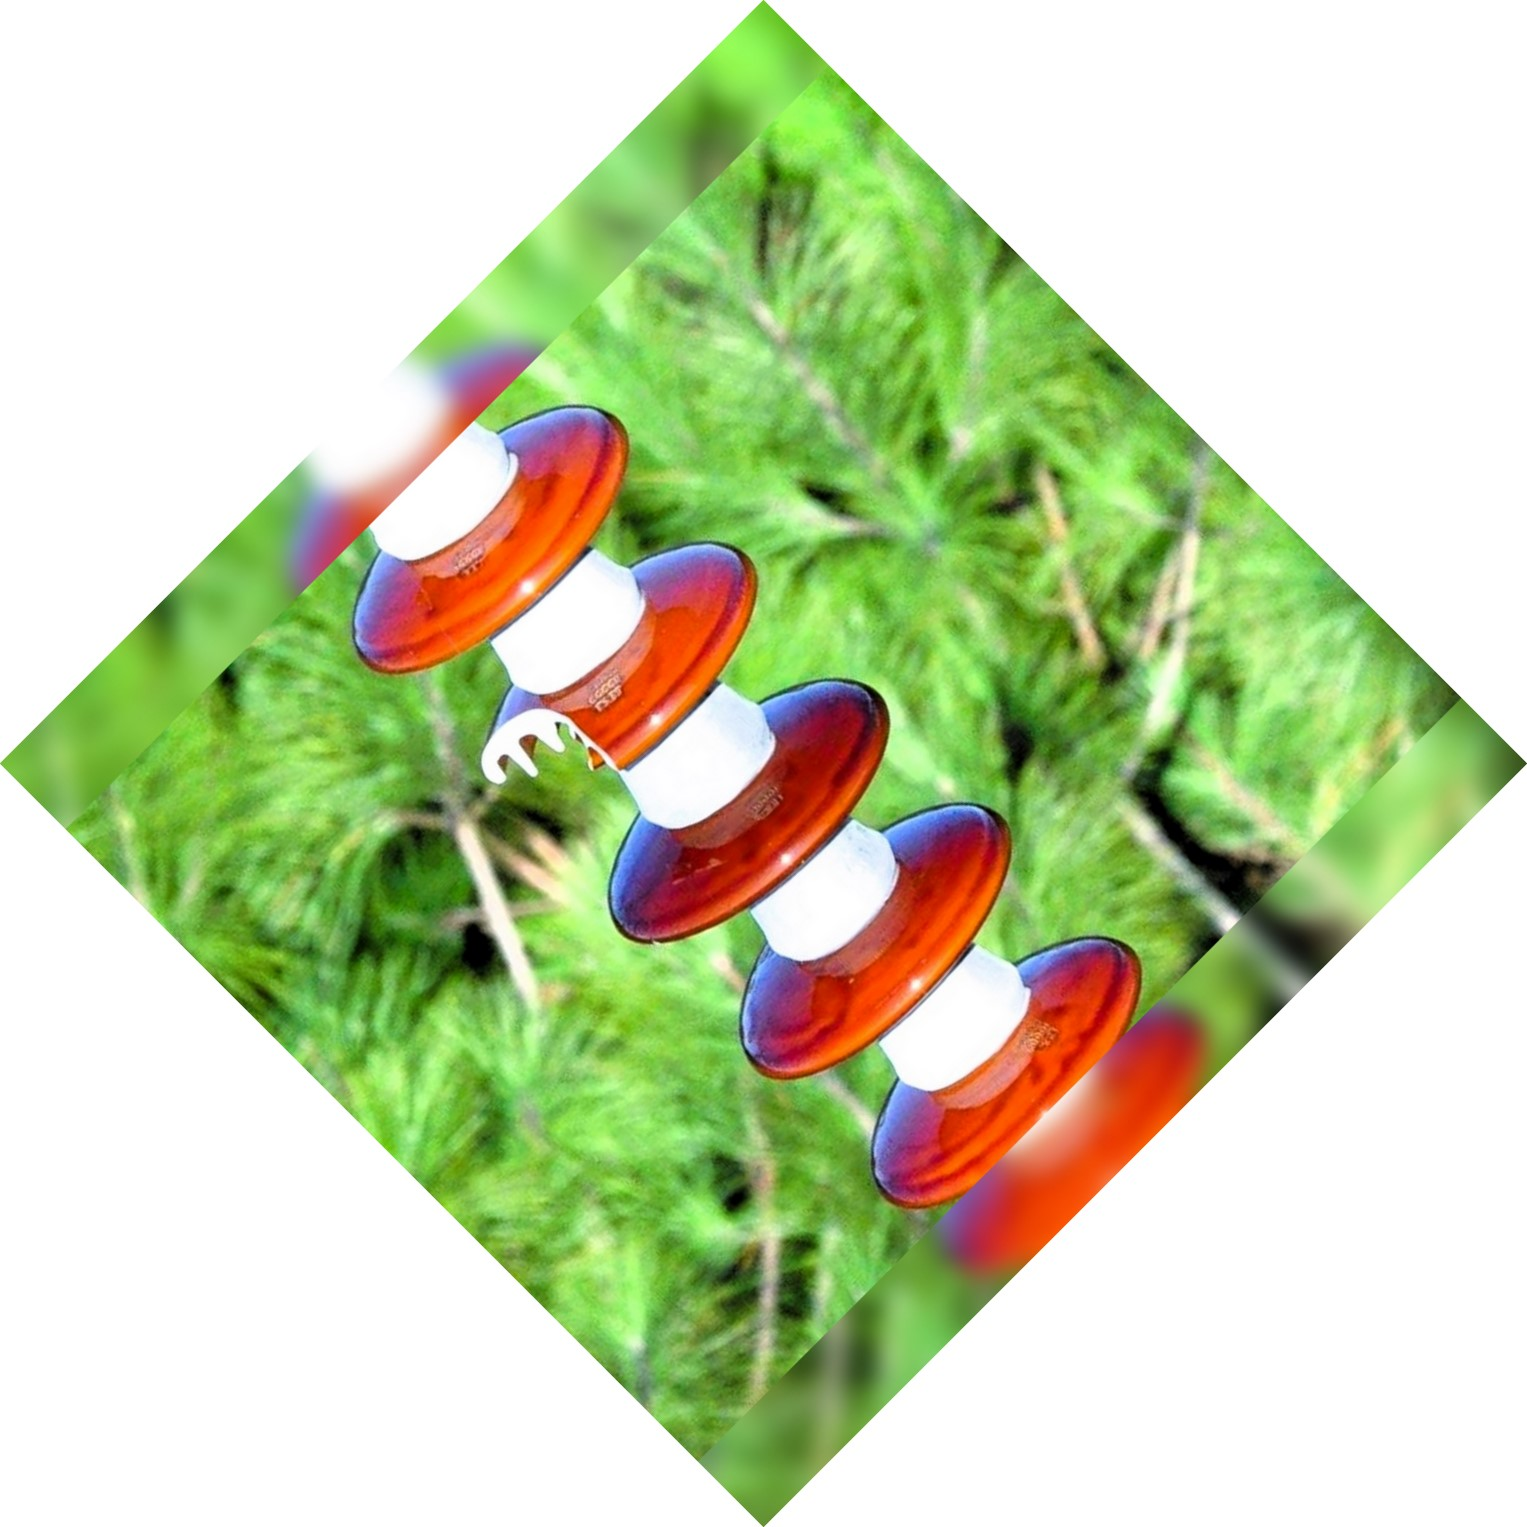insulator breakage: (453, 529, 768, 801)
